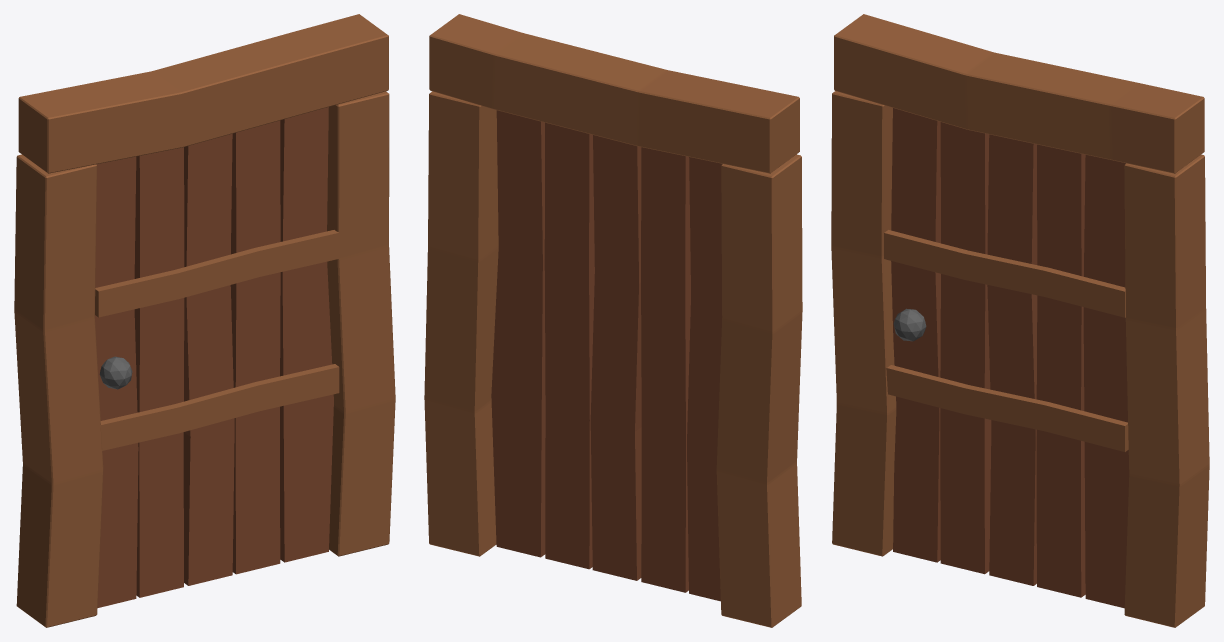
Rendered from Kapı.fbx.
3 views of the same model, side by side, from view 1: azimuth 30°, elevation 25°; view 2: azimuth 150°, elevation 25°; view 3: azimuth 330°, elevation 25° (orthographic).
Visible parts, largest first — view 1: Cube.162, Cube.009; view 2: Cube.162, Cube.009; view 3: Cube.162, Cube.009.
Part boxes in pixels (box(x1,y1,x2,y2)): Cube.162: box(95, 107, 339, 608); Cube.009: box(14, 14, 395, 627); Cube.162: box(491, 110, 722, 601); Cube.009: box(424, 14, 802, 627); Cube.162: box(884, 108, 1129, 608); Cube.009: box(831, 14, 1209, 627).
Bounding box in the file's own units: 480 × 665 × 82.69.
